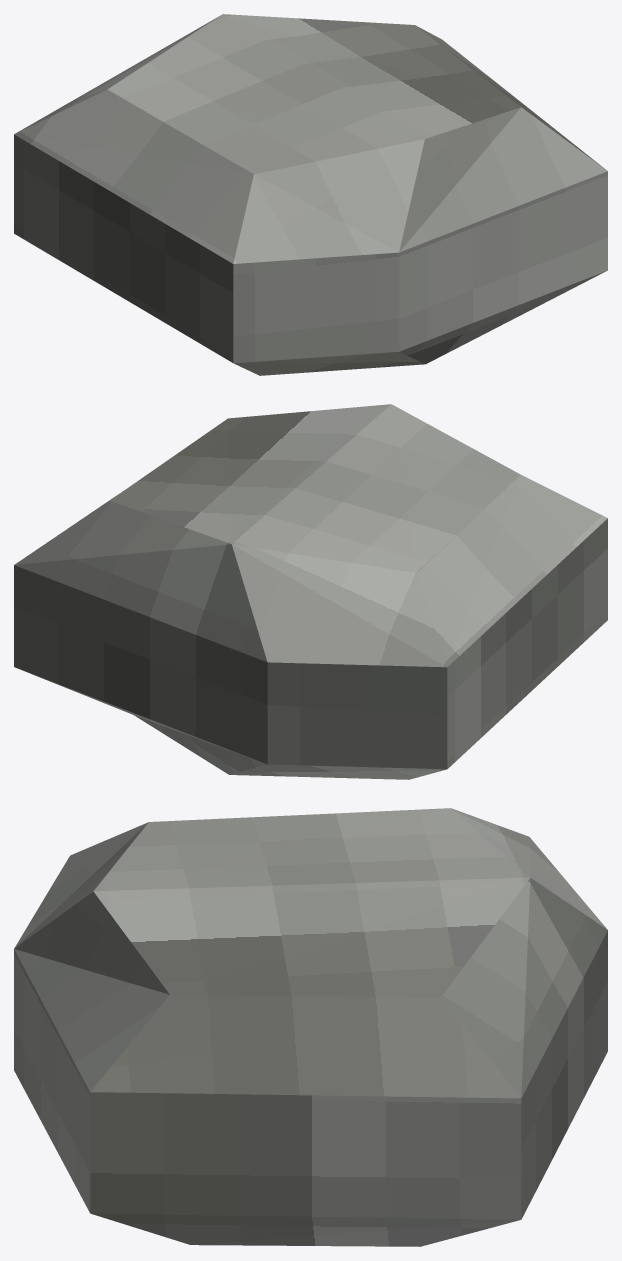
Rendered from rock.obj.
The picture shows the model from 3 angles, top to bottom: view 1: azimuth 30°, elevation 25°; view 2: azimuth 150°, elevation 25°; view 3: azimuth 270°, elevation 25°; orthographic projection. The views are drawn at different scales.
Parts seen in each view (by area): view 1: Cube_Cube.002; view 2: Cube_Cube.002; view 3: Cube_Cube.002.
Part boxes in pixels (box(x1,y1,x2,y2)): Cube_Cube.002: box(14, 14, 607, 375); Cube_Cube.002: box(14, 404, 607, 779); Cube_Cube.002: box(14, 808, 607, 1246).
Bounding box in the file's own units: 0.4037 × 0.2117 × 0.3995.
